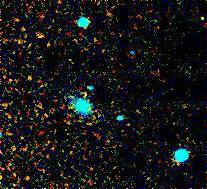star: (184, 3, 207, 33)
